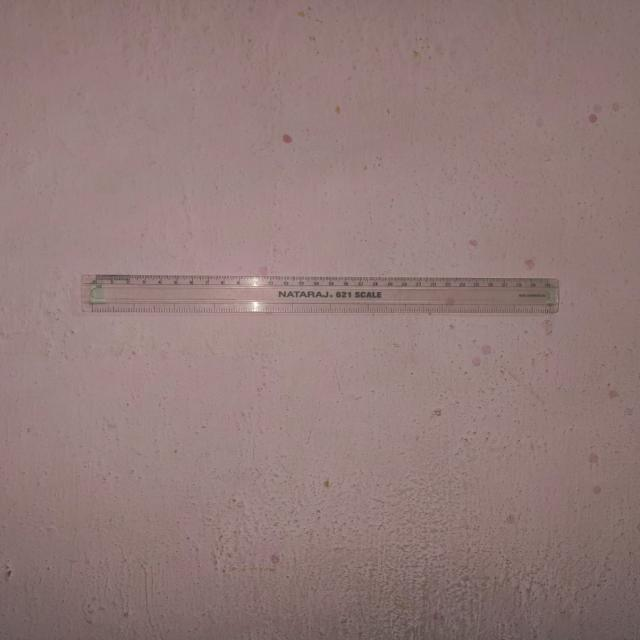scale: (87, 278, 557, 315)
